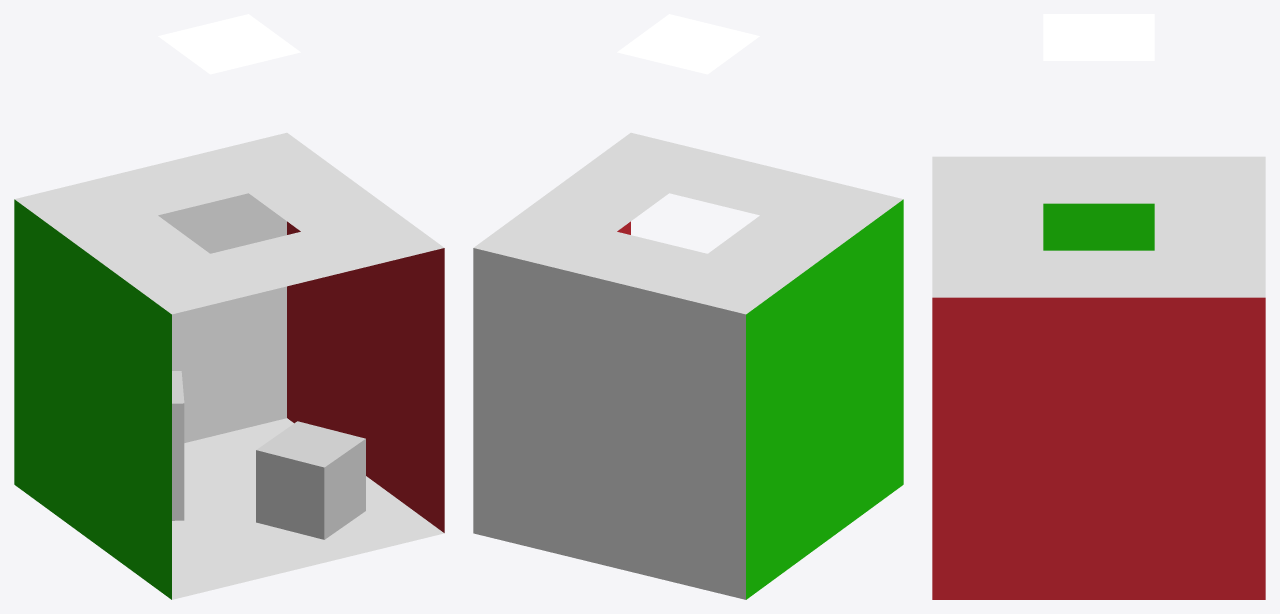
The model's file is cornell_box_lifted.gltf.
3 renders of one model, left to right at view 1: azimuth 30°, elevation 25°; view 2: azimuth 150°, elevation 25°; view 3: azimuth 270°, elevation 25°, orthographic. The views are drawn at different scales.
Parts seen in each view (by area): view 1: FrameBox, SmallBox, Light, LargeBox; view 2: FrameBox, Light; view 3: FrameBox, Light.
Boxes of the visible parts, <box> form: FrameBox: <box>14,132,444,599</box>; SmallBox: <box>256,421,365,539</box>; Light: <box>158,14,300,74</box>; LargeBox: <box>172,371,184,520</box>; FrameBox: <box>473,132,903,599</box>; Light: <box>617,14,759,74</box>; FrameBox: <box>932,156,1265,599</box>; Light: <box>1043,14,1154,60</box>.
Size of the model in its own units: 2 by 3.26 by 2.
